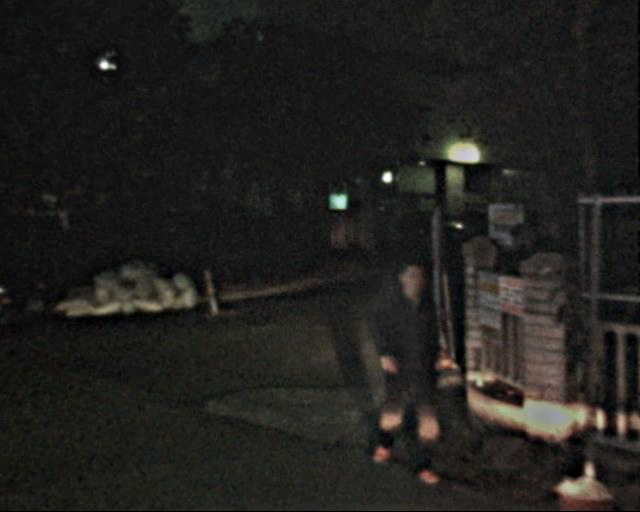person: (356, 254, 448, 475)
